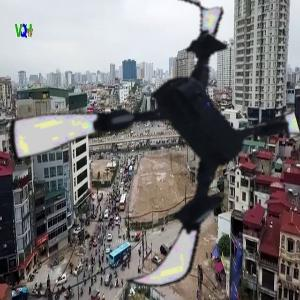drone: (13, 3, 300, 290)
